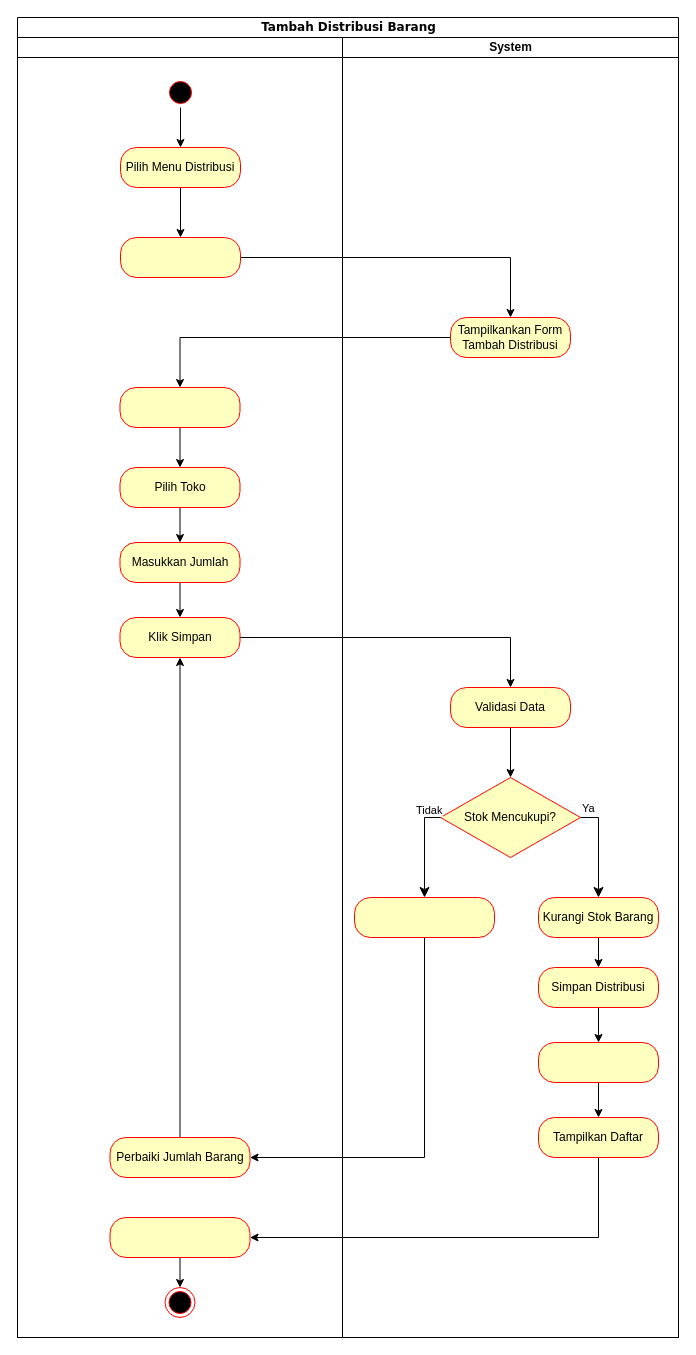
This 696x1355 diagram has some shape labels left out. Here are the shapes that lost their labels. From the top down, the box of each, then its label:
(120, 236, 240, 278): Klik Tambah Distribusi
(119, 386, 240, 428): Pilih Barang
(16, 36, 342, 1338): Admin
(354, 896, 494, 938): Tampilkan Pesan "Stok Tidak Mencukupi"
(538, 1042, 658, 1082): Tampilkan Pesan Berhasil
(109, 1216, 250, 1258): Melihat Daftar Distribusi
